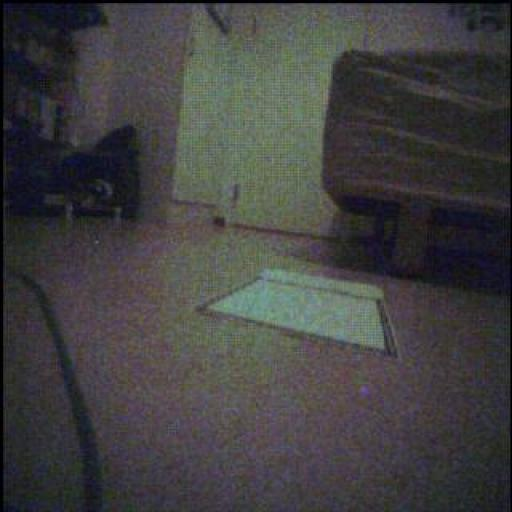pad: (203, 270, 398, 356)
